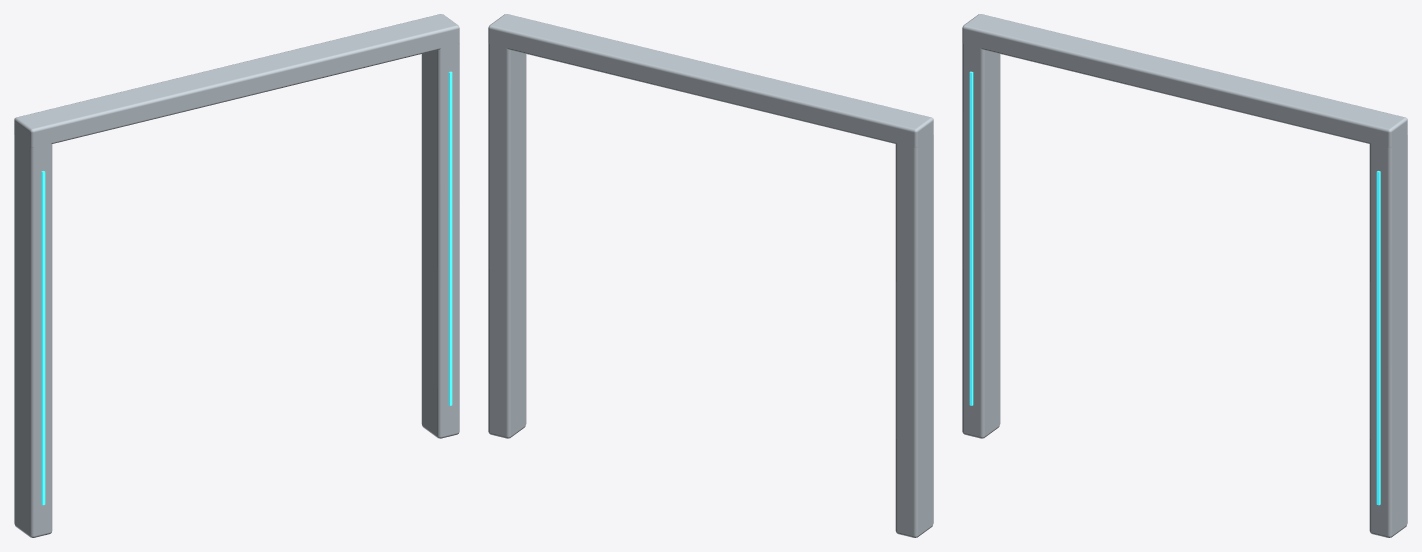
File: structural-arch.glb
3 renders of one model, left to right at view 1: azimuth 30°, elevation 25°; view 2: azimuth 150°, elevation 25°; view 3: azimuth 330°, elevation 25°, orthographic.
Parts seen in each view (by area): view 1: pillar (×2), lintel, light (×2); view 2: pillar (×2), lintel; view 3: pillar (×2), lintel, light (×2).
Boxes of the visible parts, x1=… form: pillar (×2): x1=14, y1=39, x2=459, y2=537; lintel: x1=14, y1=14, x2=459, y2=147; light (×2): x1=41, y1=71, x2=452, y2=505; pillar (×2): x1=488, y1=39, x2=933, y2=537; lintel: x1=488, y1=14, x2=933, y2=147; pillar (×2): x1=962, y1=39, x2=1407, y2=537; lintel: x1=962, y1=14, x2=1407, y2=147; light (×2): x1=969, y1=71, x2=1380, y2=505.
Bounding box in the file's own units: 6.75 × 6.15 × 0.5375.
